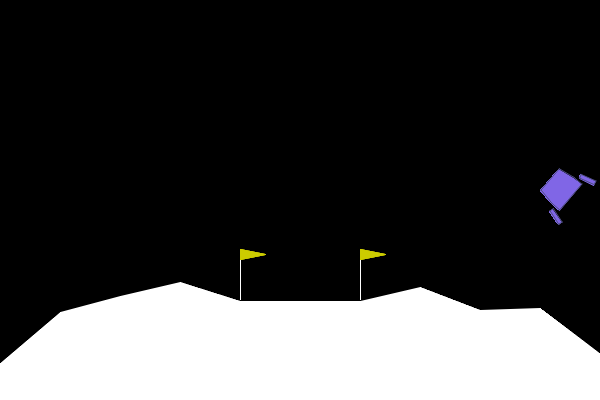lander: (529, 156, 598, 227)
